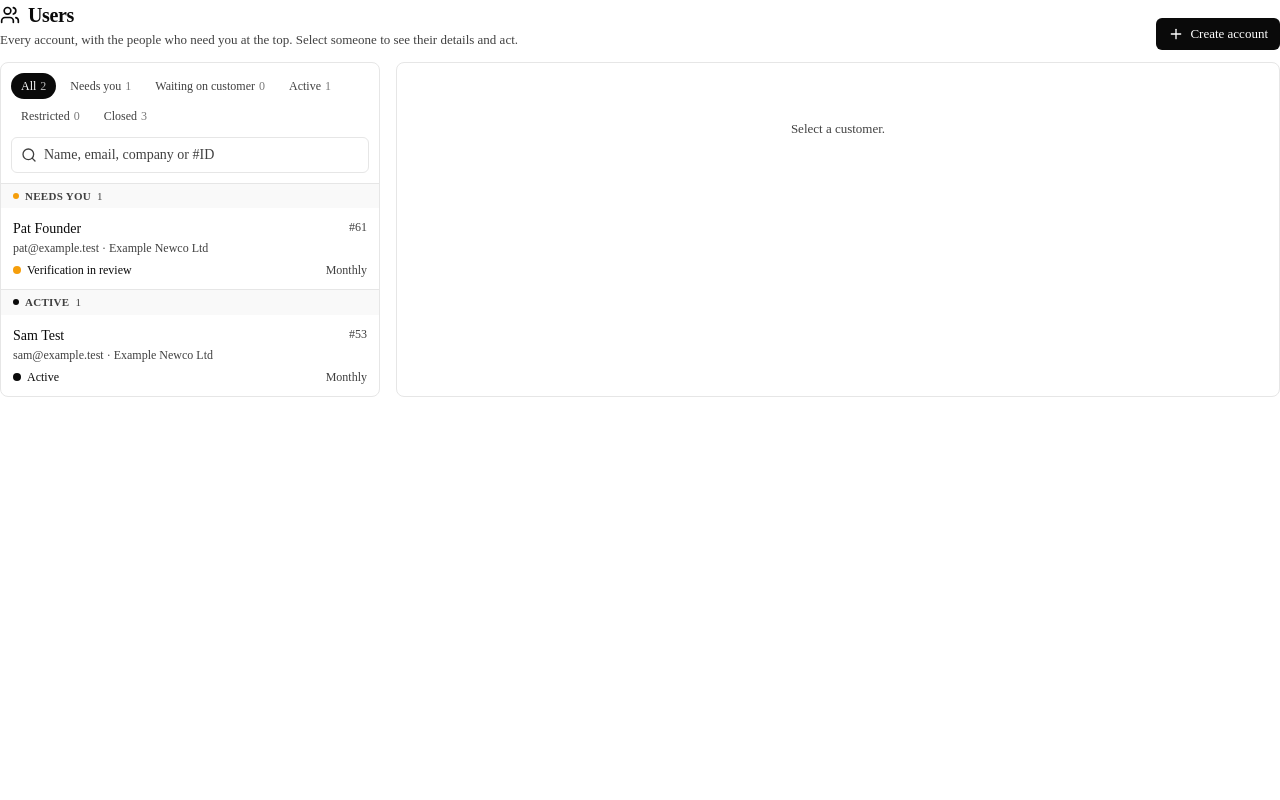
Test: Admin › Customers › selecting a customer shows what happens next and the actions, with no hand-set identity or plan status
Click the text "Pat Founder" at coordinates (47, 228), box [13,218,81,239]
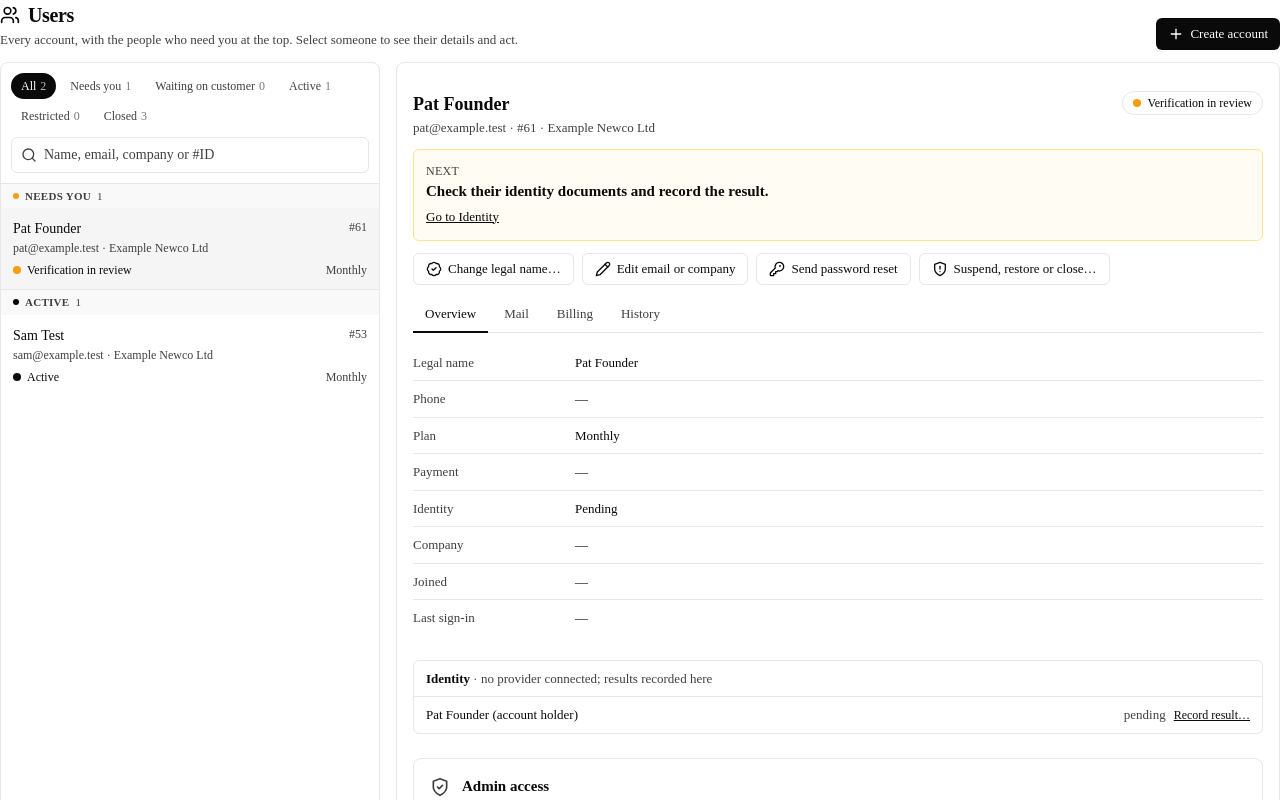
Now the text "Check their identity documents and record the result." is shown, box [426,183,768,199]
Now the button "Change legal name…" is shown, box [413,252,574,284]
Now the button "Edit email or company" is shown, box [582,252,748,284]
